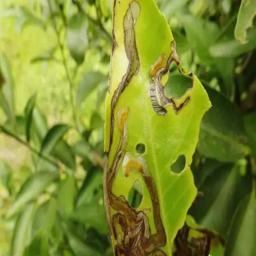liriomyza: (104, 1, 194, 256)
